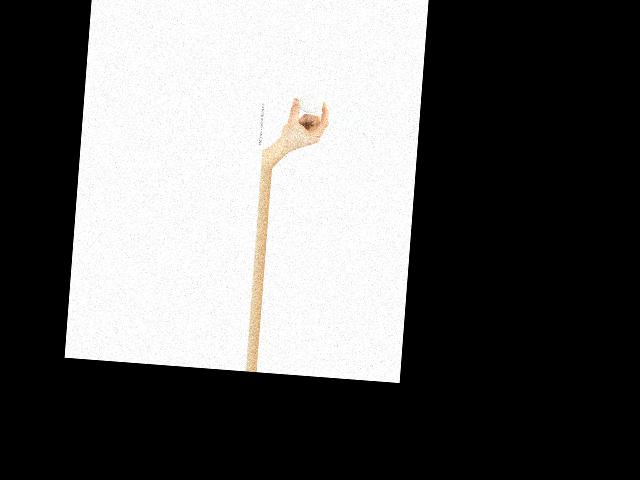egg: (297, 94, 323, 114)
